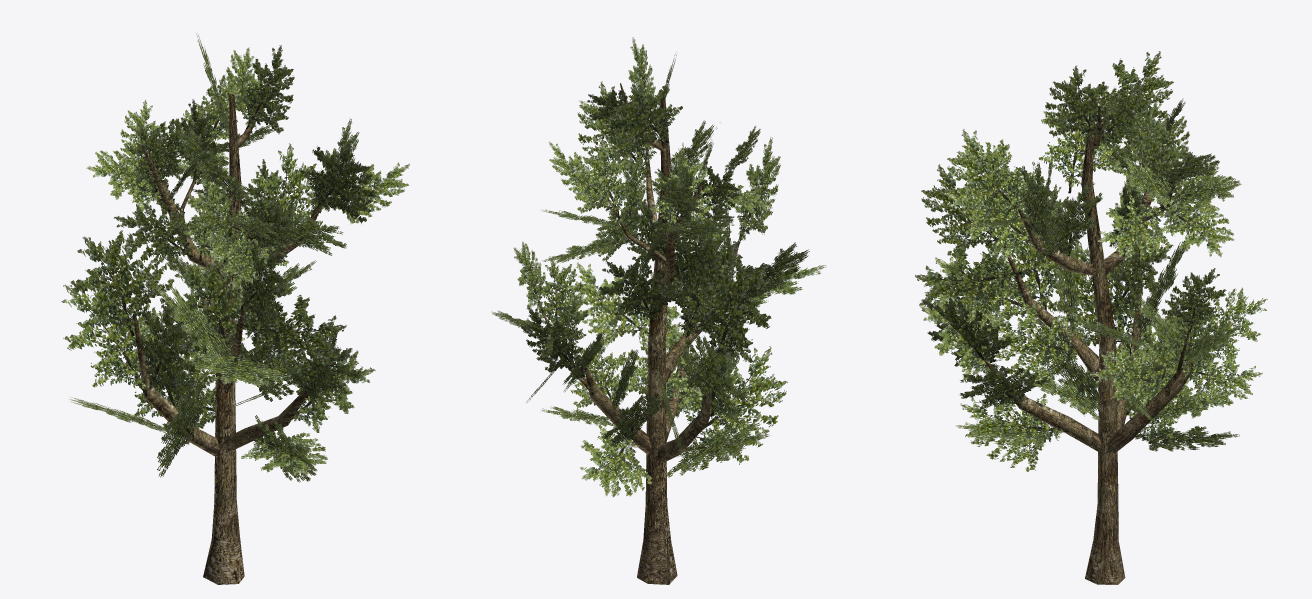
File: boom 2.fbx
3 renders of one model, left to right at view 1: azimuth 30°, elevation 25°; view 2: azimuth 150°, elevation 25°; view 3: azimuth 270°, elevation 25°, orthographic. The views are drawn at different scales.
Parts seen in each view (by area): view 1: boom_2; view 2: boom_2; view 3: boom_2.
Boxes of the visible parts, bbox=[...] form: boom_2: bbox=[61, 34, 409, 584]; boom_2: bbox=[491, 37, 826, 584]; boom_2: bbox=[915, 51, 1267, 584].
Bounding box in the file's own units: 6.12 × 10.22 × 6.92.
